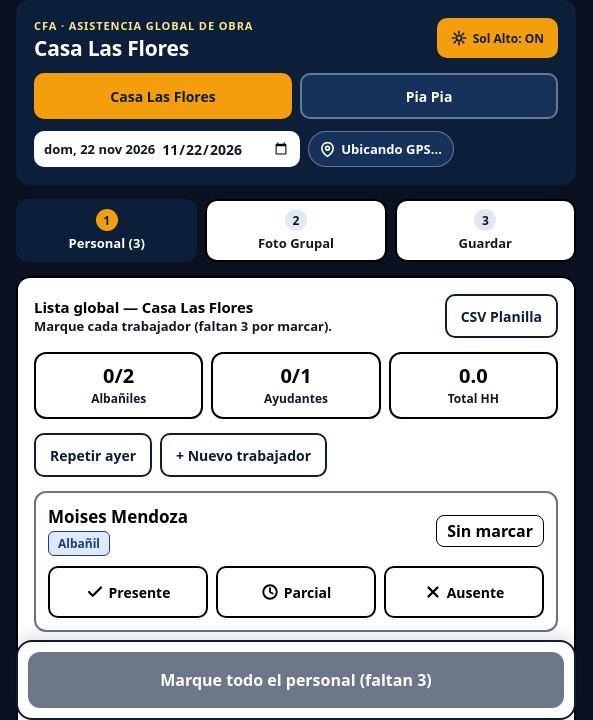
Test: AttendanceView — Asistencia Global Obligatoria (Casa Las Flores / Pia Pia) › inicia con todos sin marcar, obliga a marcar antes de avanzar y solo permite Albañil/Ayudante
The image size is (593, 720).
Expected: the text "Moises Mendoza" is shown, [48,505,188,528]
Expected: the element named "Resumen global del proyecto" shows "0/2", [34,352,558,419]
Note: Verificar cargos Albañil / Ayudante
Click the button "+ Nuevo trabajador".
click(244, 455)  # box [160,433,327,477]
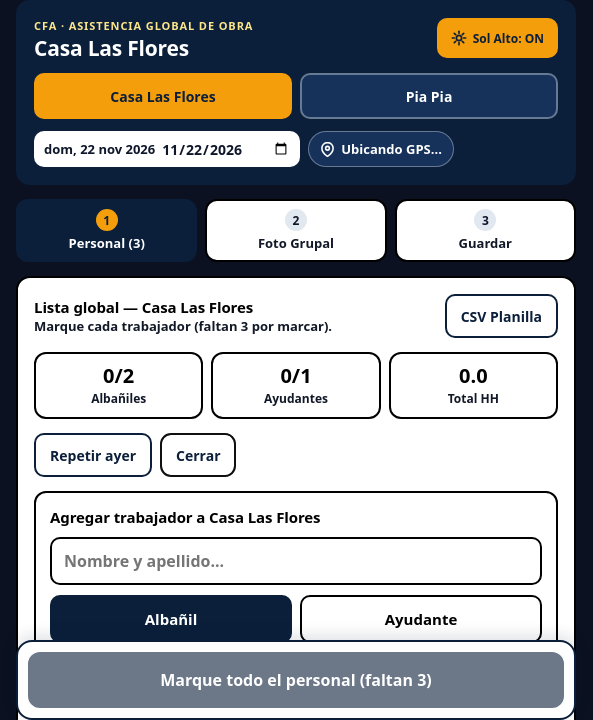
Now the radio buttons read "Albañil", "Ayudante", in this order, box [50,595,292,643]; [300,595,542,643]
